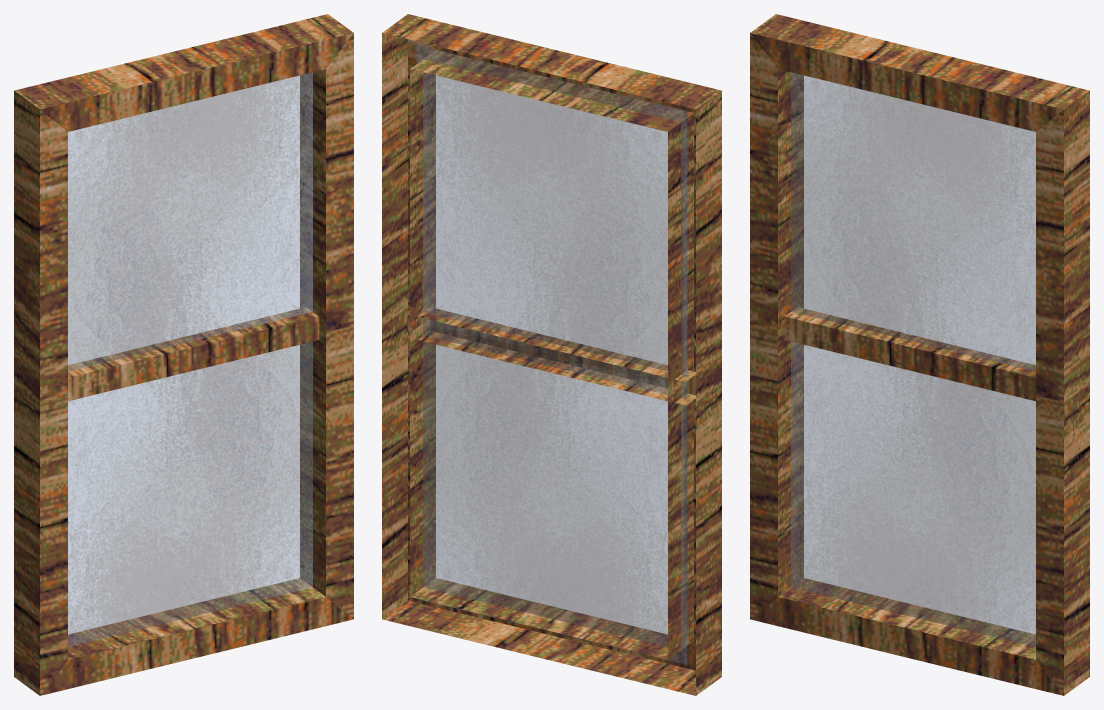
File: Ventana_LGJ2026.fbx
3 views of the same model, side by side, from view 1: azimuth 30°, elevation 25°; view 2: azimuth 150°, elevation 25°; view 3: azimuth 330°, elevation 25° (orthographic).
Parts seen in each view (by area): view 1: Ventana; view 2: Ventana; view 3: Ventana.
Boxes of the visible parts, <box> form: Ventana: <box>14,14,353,695</box>; Ventana: <box>382,14,721,695</box>; Ventana: <box>750,14,1089,695</box>.
Size of the model in its own units: 0.56 by 1 by 0.08.
